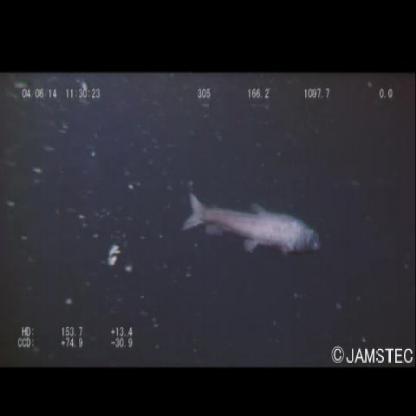Bio: (178, 185, 326, 260)
